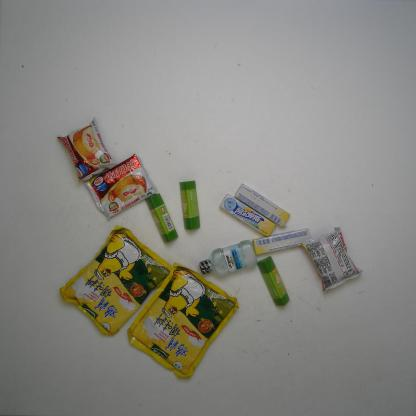Candy: (234, 183, 290, 228), (221, 194, 275, 236), (251, 227, 313, 253)
Dessert: (85, 155, 158, 219), (300, 226, 363, 293), (56, 117, 118, 182)
Personal Hygiene: (199, 239, 258, 280)
Seasoner: (125, 262, 238, 380), (58, 225, 173, 335)
Stationery: (259, 254, 292, 307), (146, 193, 177, 242), (179, 181, 201, 231)
